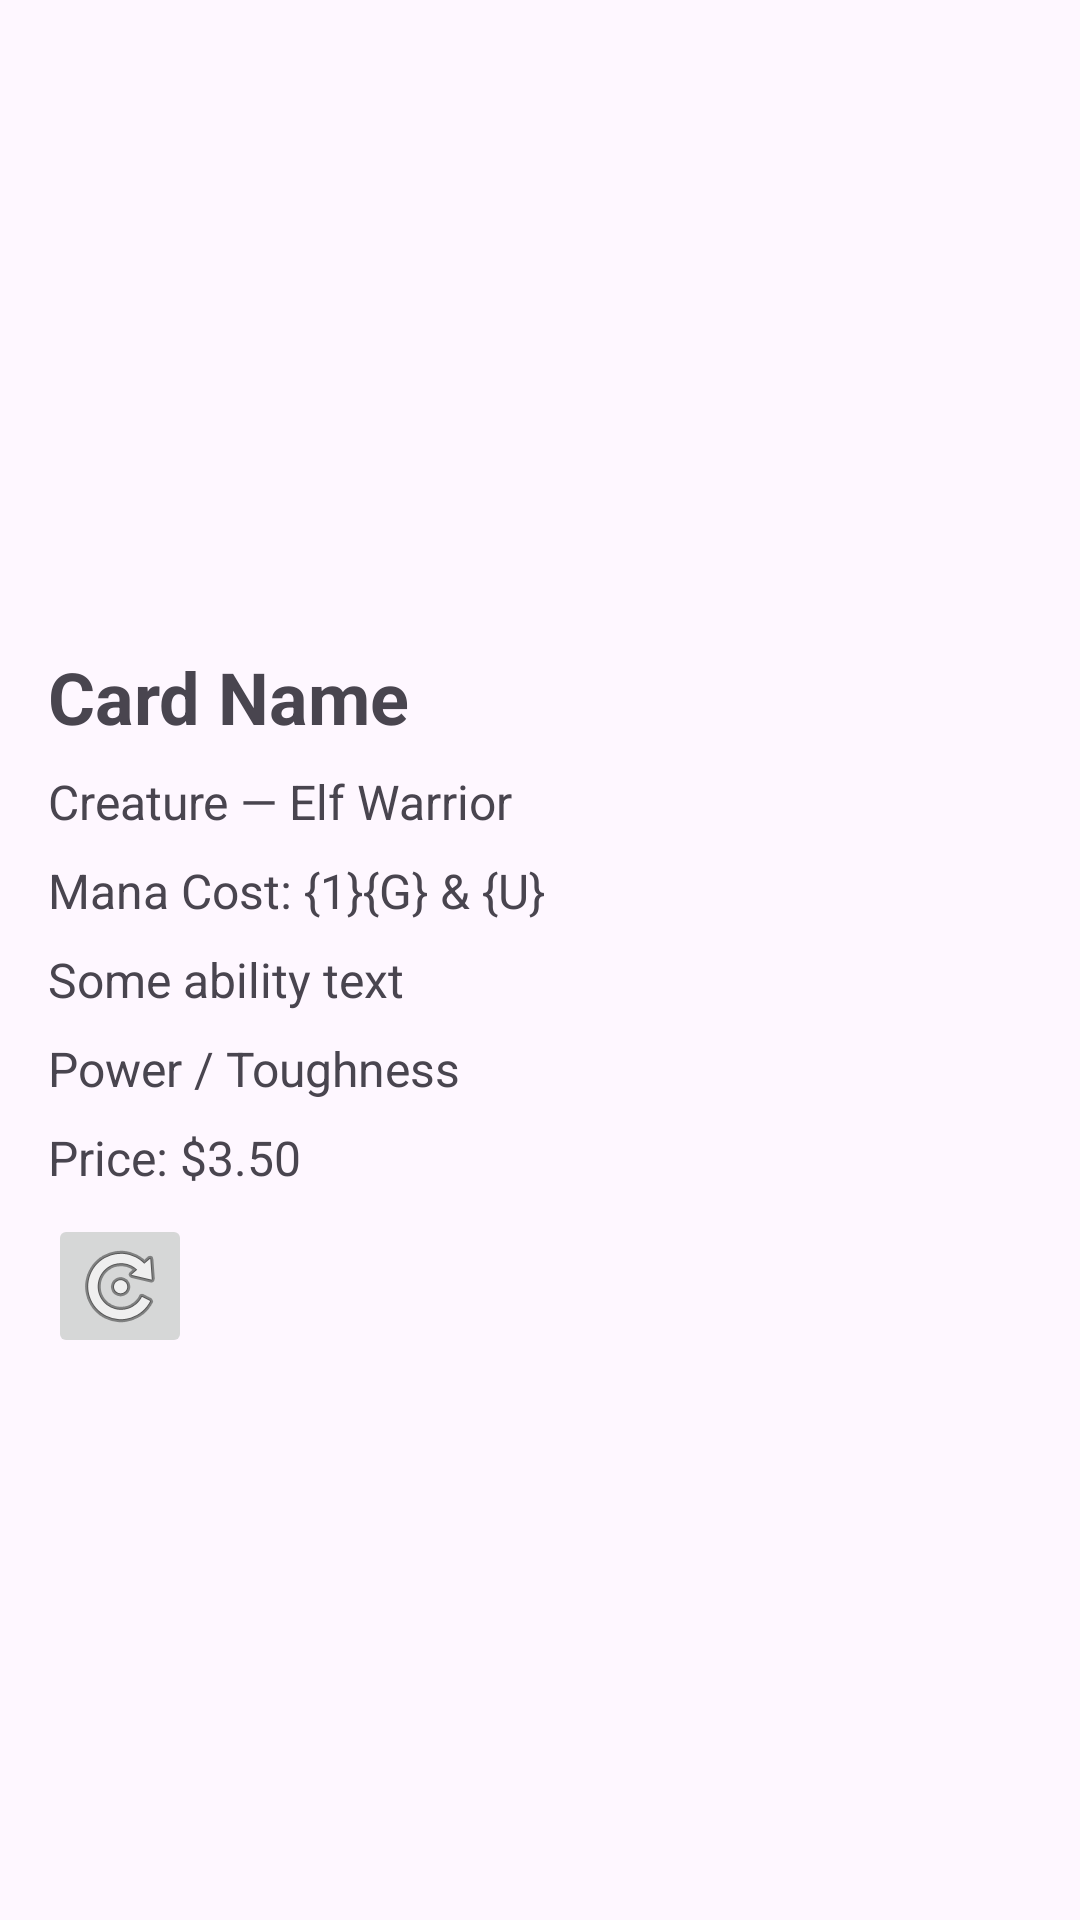

Where icons sit on this 1080×1920 app screen, as Rect(x1, y1, x2, y2):
Flip Card: Rect(60, 1232, 180, 1340)
